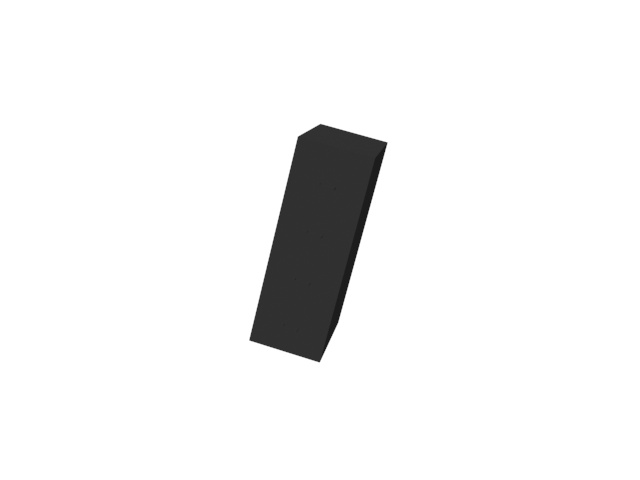file_cabinet: (249, 121, 392, 368)
